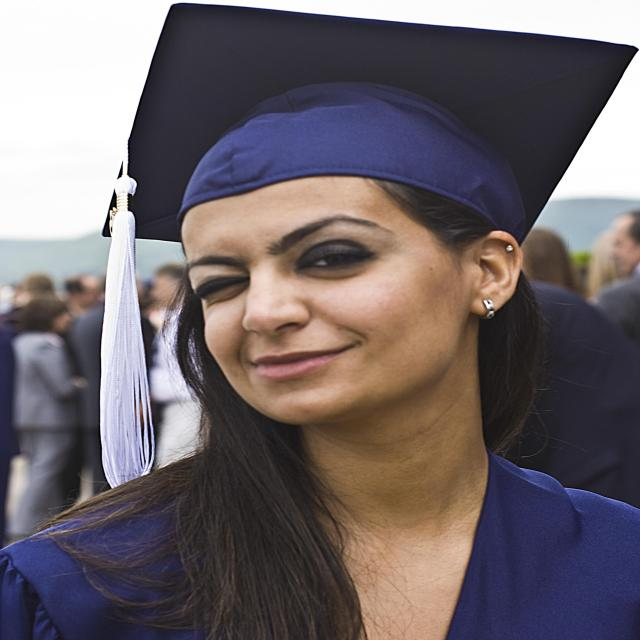no-glass: (182, 249, 382, 303)
